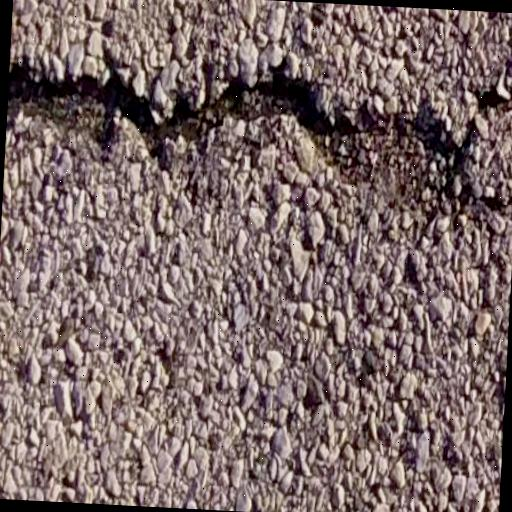spalling: (16, 36, 512, 219)
